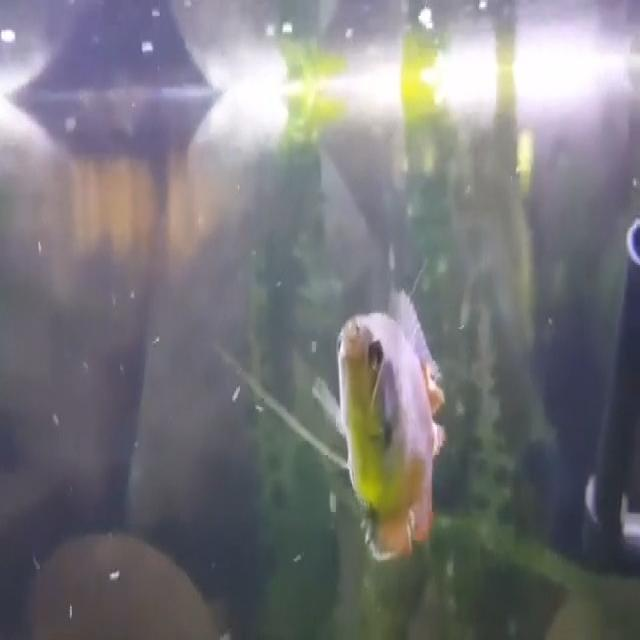fish: (333, 287, 450, 563)
